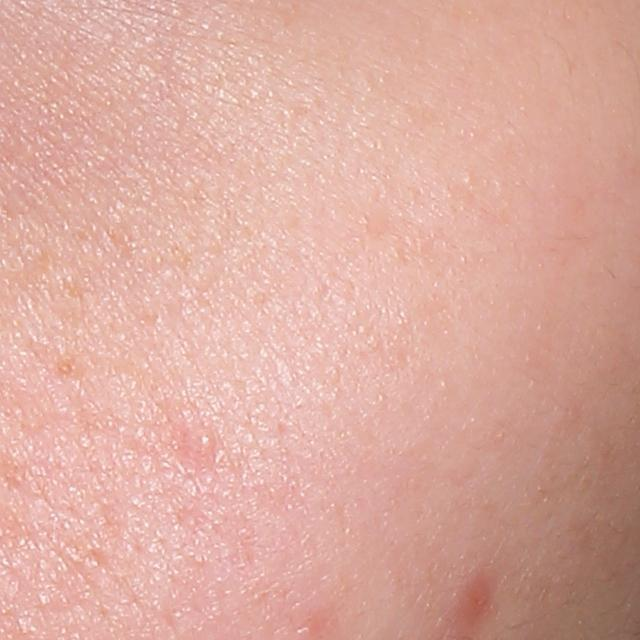papule: (450, 569, 490, 619)
